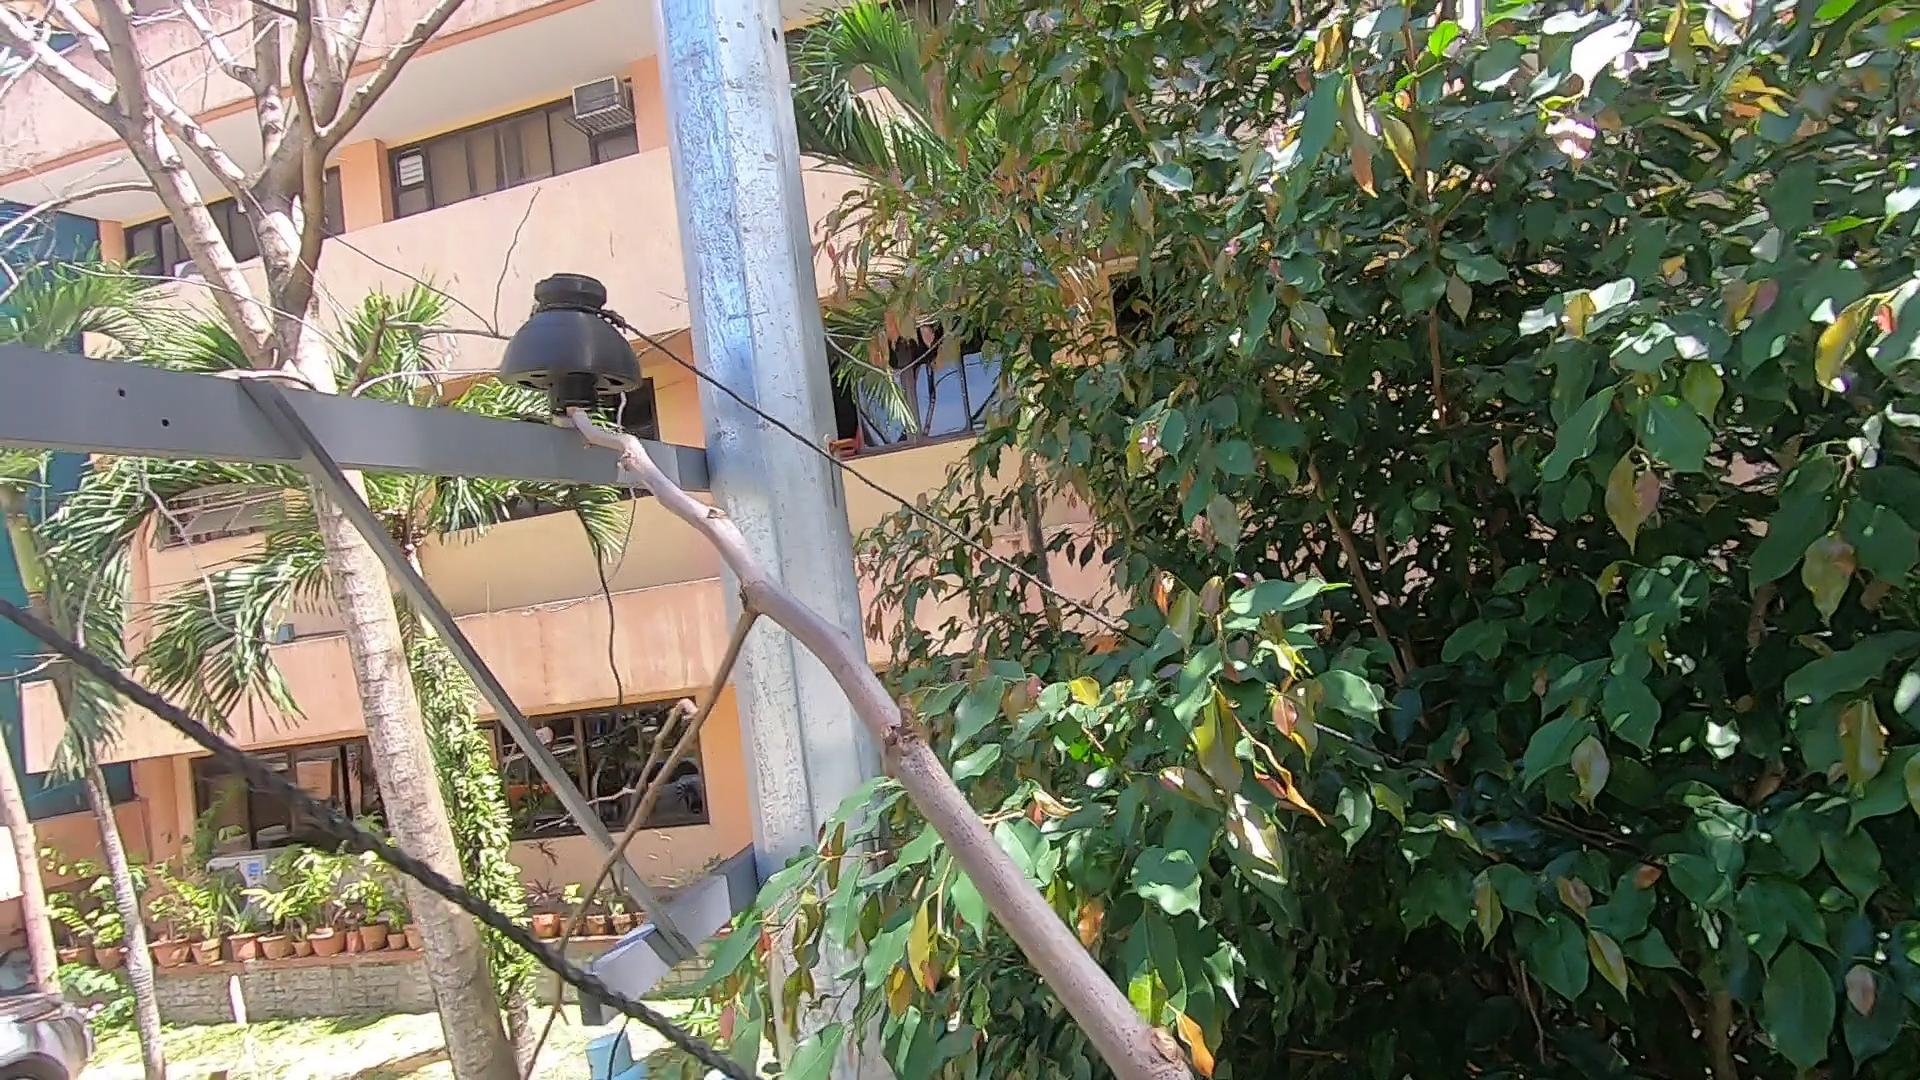tree branch: (448, 276, 1204, 1080), (729, 807, 1030, 1080)
